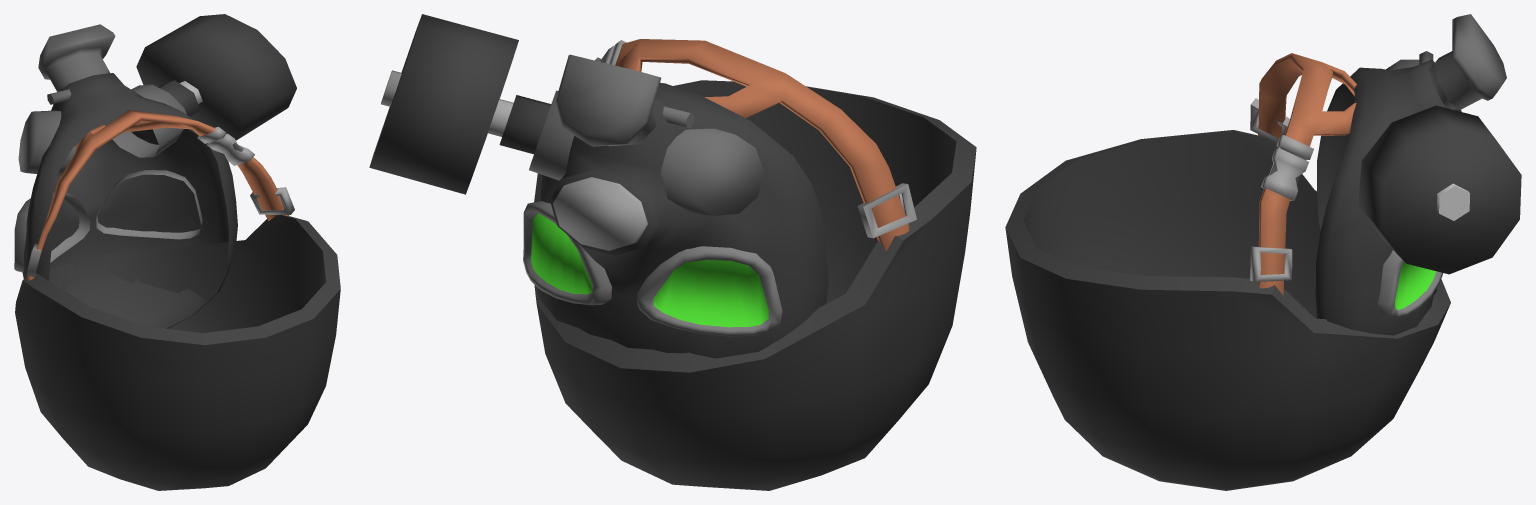
Rendered from overalls.004.fbx.
The picture shows the model from 3 angles, left to right: view 1: azimuth 30°, elevation 25°; view 2: azimuth 150°, elevation 25°; view 3: azimuth 270°, elevation 25°; orthographic projection. The views are drawn at different scales.
Visible parts, largest first — view 1: helmet.001, Gas_Mask.001; view 2: helmet.001, Gas_Mask.001; view 3: helmet.001, Gas_Mask.001.
Part boxes in pixels (<box>): helmet.001: <box>15,110,340,490</box>; Gas_Mask.001: <box>14,14,296,328</box>; helmet.001: <box>534,39,976,490</box>; Gas_Mask.001: <box>369,14,828,358</box>; helmet.001: <box>1005,53,1450,490</box>; Gas_Mask.001: <box>1315,14,1521,335</box>.
Bounding box in the file's own units: 1.14 × 1.23 × 1.3.
